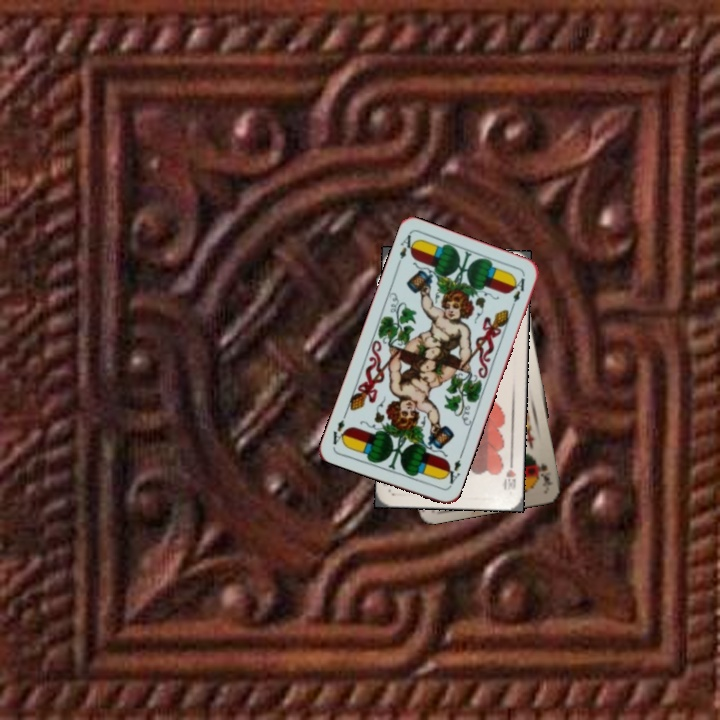EA: (440, 456, 464, 490), (395, 230, 419, 261)
H10: (499, 454, 519, 493)
SK: (534, 459, 556, 488)
